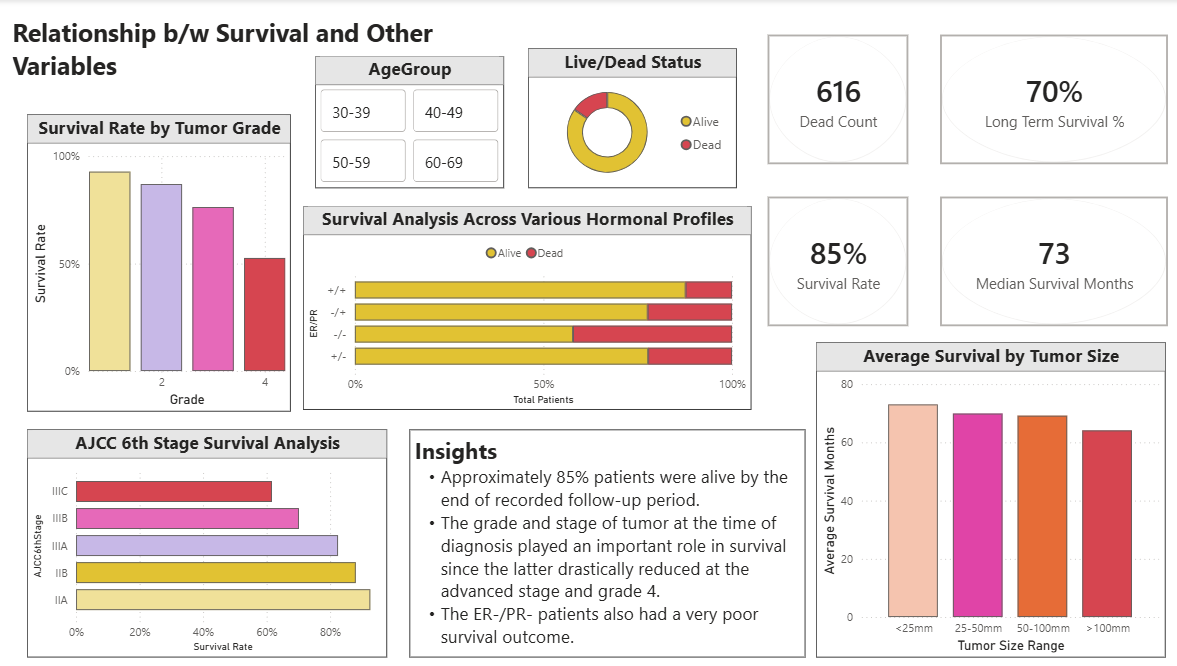

The dashboard page shown, as its layout file describes it:
{"tool":"powerbi","page":{"name":"Page 2","canvas":[1280,720],"ordinal":1},"visuals":[{"type":"columnChart","title":"Survival Rate by Tumor Grade","fields":{"Category":["dim_grade.Grade"],"Y":["fact_BreastCancer.Survival Rate"]},"box":[32.4,124.7,285,320.6],"z":0},{"type":"cardVisual","fields":{"Data":["fact_BreastCancer.Survival Rate"]},"box":[814.5,195.9,186.2,174.9],"z":1000},{"type":"cardVisual","fields":{"Data":["fact_BreastCancer.Long Term Survival %"]},"box":[999.9,21,280.1,174.9],"z":2000},{"type":"cardVisual","fields":{"Data":["fact_BreastCancer.Median Survival Rate"]},"box":[999.9,195.9,280.1,174.9],"z":3000},{"type":"cardVisual","fields":{"Data":["fact_BreastCancer.Dead Count"]},"box":[814.5,21,186.2,174.9],"z":4000},{"type":"barChart","title":"AJCC 6th Stage Survival Analysis","fields":{"Y":["fact_BreastCancer.Survival Rate"],"Category":["dim_stage.AJCC6thStage"]},"box":[32.4,464.7,388.6,246.1],"z":5000},{"type":"donutChart","title":"Live/Dead Status","fields":{"Category":["fact_BreastCancer.Status"],"Y":["fact_BreastCancer.Total Patients"]},"box":[573.2,53.4,225.1,150.6],"z":6000},{"type":"hundredPercentStackedBarChart","title":"Survival Analysis Across Various Hormonal Profiles","fields":{"Category":["dim_hormonal_status.ER/PR"],"Series":["fact_BreastCancer.Status"],"Y":["fact_BreastCancer.Total Patients"]},"box":[330.3,223.5,484.1,220.2],"z":7000},{"type":"columnChart","title":"Average Survival by Tumor Size","fields":{"Category":["fact_BreastCancer.Tumor Size Range"],"Y":["fact_BreastCancer.Average Survival Months"]},"box":[884.1,370.8,377.3,340],"z":8000},{"type":"textbox","box":[445.3,464.7,427.5,246.1],"z":9000},{"type":"textbox","box":[11.3,13,550.5,95.5],"z":10000},{"type":"advancedSlicerVisual","fields":{"Values":["fact_BreastCancer.AgeGroup"]},"box":[343.3,61.5,204,142.5],"z":11000}]}

Visuals, with their boxes in screenshot pixels (x1, y1, x2, y2), scaled from the page's 1280x720 canvas onto the 1177x666 screenshot:
"Survival Rate by Tumor Grade" columnChart: [x1=30, y1=115, x2=292, y2=412]
cardVisual - fact_BreastCancer.Survival Rate: [x1=749, y1=181, x2=920, y2=343]
cardVisual - fact_BreastCancer.Long Term Survival %: [x1=919, y1=19, x2=1176, y2=181]
cardVisual - fact_BreastCancer.Median Survival Rate: [x1=919, y1=181, x2=1176, y2=343]
cardVisual - fact_BreastCancer.Dead Count: [x1=749, y1=19, x2=920, y2=181]
"AJCC 6th Stage Survival Analysis" barChart: [x1=30, y1=430, x2=387, y2=657]
"Live/Dead Status" donutChart: [x1=527, y1=49, x2=734, y2=189]
"Survival Analysis Across Various Hormonal Profiles" hundredPercentStackedBarChart: [x1=304, y1=207, x2=749, y2=410]
"Average Survival by Tumor Size" columnChart: [x1=813, y1=343, x2=1160, y2=657]
textbox: [x1=409, y1=430, x2=803, y2=657]
textbox: [x1=10, y1=12, x2=517, y2=100]
advancedSlicerVisual - fact_BreastCancer.AgeGroup: [x1=316, y1=57, x2=503, y2=189]
